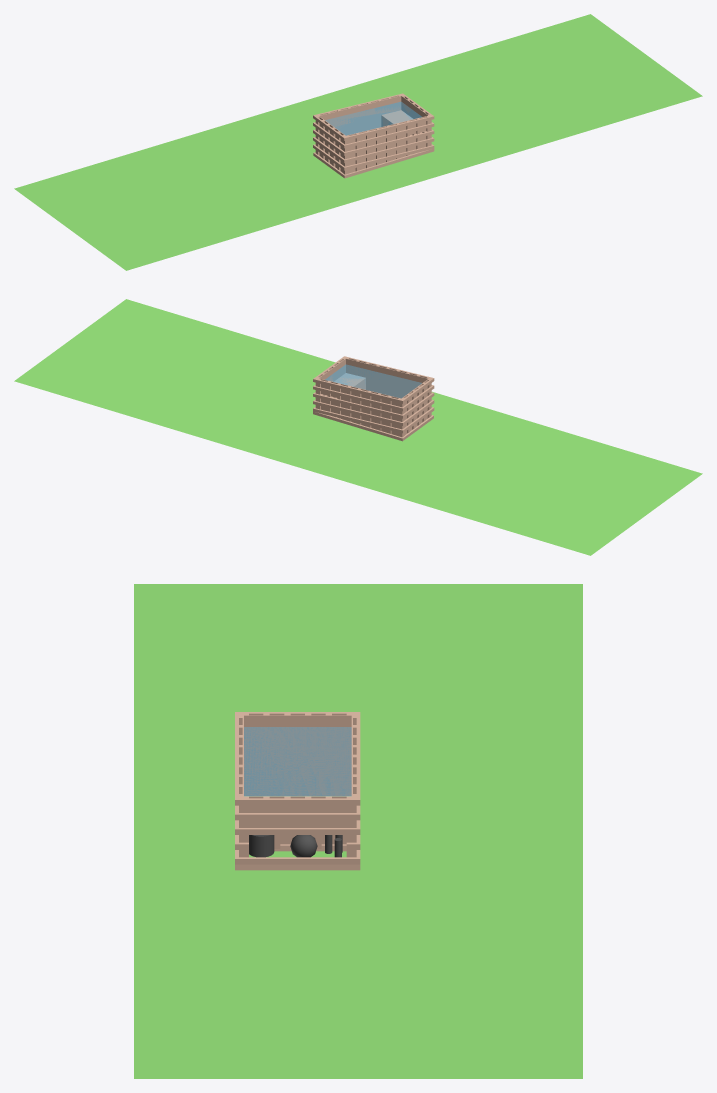
Rendered from GardenPoolV2.fbx.
The picture shows the model from 3 angles, top to bottom: view 1: azimuth 30°, elevation 25°; view 2: azimuth 150°, elevation 25°; view 3: azimuth 270°, elevation 25°; orthographic projection. The views are drawn at different scales.
Visible parts, largest first — view 1: Plane, Cube.059, Cube.064, Cube.057; view 2: Plane, Cube.057, Cube.064, Cube.059; view 3: Plane, Cube.058, Cube.064, Cube.055, Pool Frame Base.036, Pool Frame Base.040, Pool Frame Base.037, Pool Frame Base.038, Pool Frame Base.042.
Boxes of the visible parts, <box> form: Plane: <box>14,14,702,270</box>; Cube.059: <box>319,96,401,135</box>; Cube.064: <box>325,102,421,135</box>; Cube.057: <box>346,115,428,173</box>; Plane: <box>14,299,702,555</box>; Cube.057: <box>346,358,428,398</box>; Cube.064: <box>325,364,421,398</box>; Cube.059: <box>319,378,400,435</box>; Plane: <box>134,584,582,1078</box>; Cube.058: <box>243,715,352,795</box>; Cube.064: <box>244,727,351,796</box>; Cube.055: <box>243,796,352,827</box>; Pool Frame Base.036: <box>235,798,360,805</box>; Pool Frame Base.040: <box>235,857,360,864</box>; Pool Frame Base.037: <box>235,813,360,820</box>; Pool Frame Base.038: <box>235,828,360,834</box>; Pool Frame Base.042: <box>235,864,360,870</box>.
Bounding box in the file's own units: 1351 × 122 × 456.
